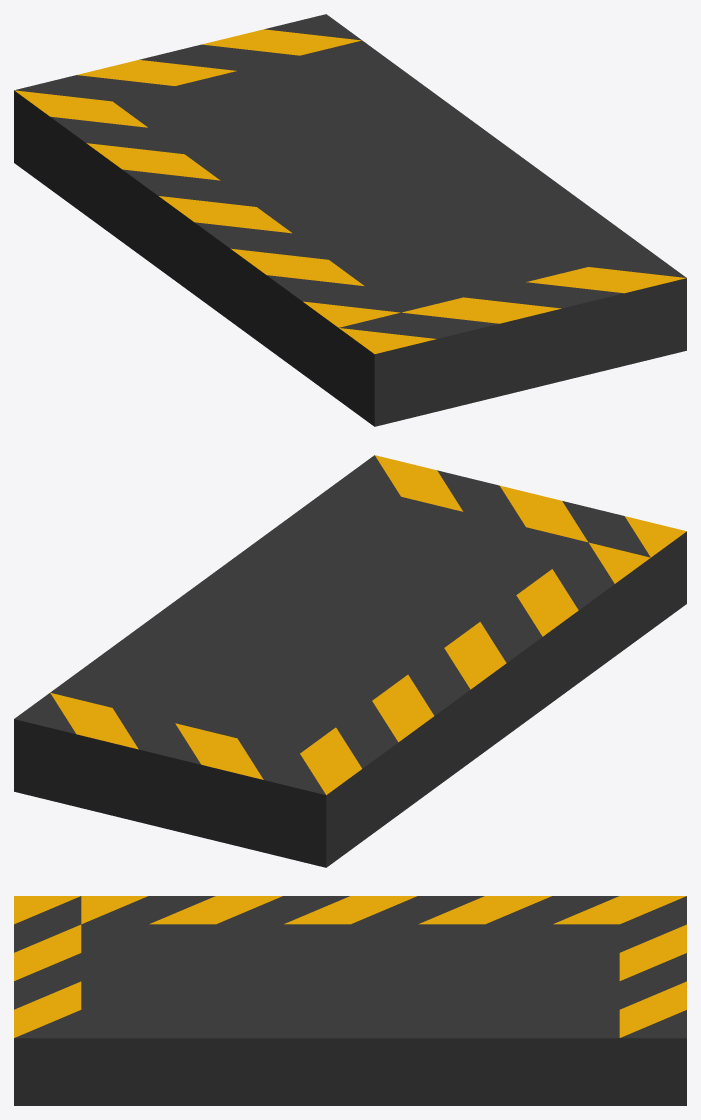
3 views of the same model, one above another, from view 1: azimuth 30°, elevation 25°; view 2: azimuth 150°, elevation 25°; view 3: azimuth 270°, elevation 25° (orthographic). The views are drawn at different scales.
Visible parts, largest first — view 1: r2; view 2: r2; view 3: r2.
Part boxes in pixels (x1,y1,x2,y2): r2: (14,14,686,426); r2: (14,455,686,867); r2: (14,896,686,1105).
Size of the model in its own units: 4.5 by 1 by 9.
